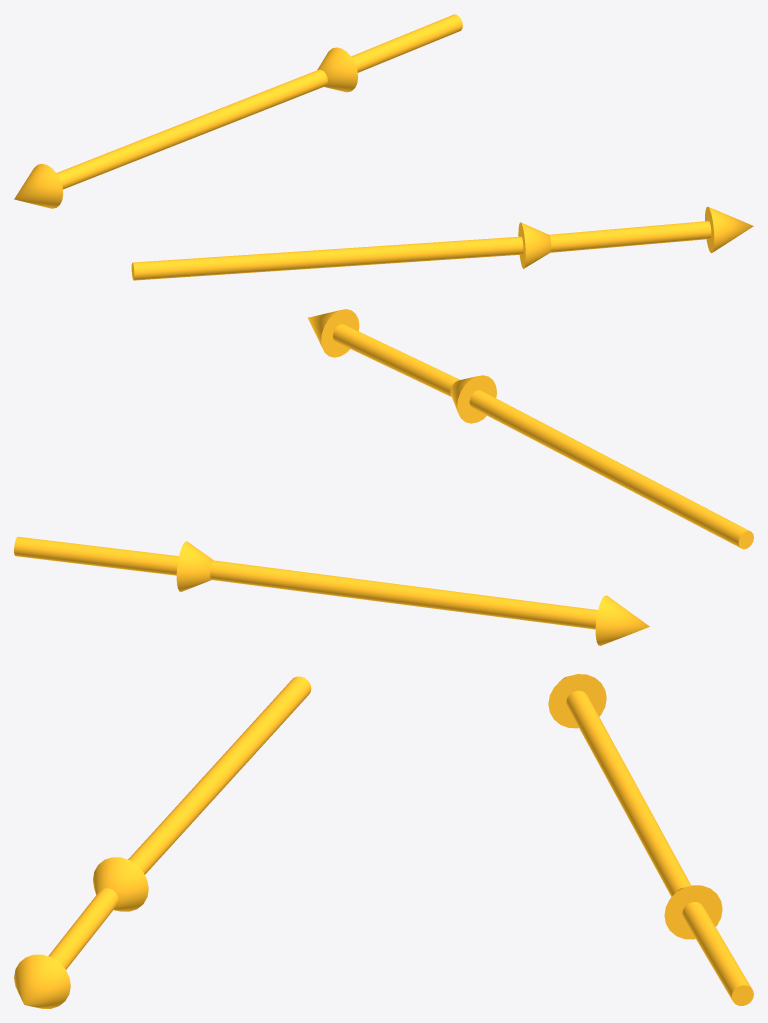
The model's file is floating_roof_tank_flow.glb.
The picture shows the model from 3 angles, top to bottom: view 1: azimuth 30°, elevation 25°; view 2: azimuth 150°, elevation 25°; view 3: azimuth 270°, elevation 25°; orthographic projection. The views are drawn at different scales.
Parts seen in each view (by area): view 1: outlet, inlet; view 2: inlet, outlet; view 3: outlet, inlet.
Boxes of the visible parts, bbox=[...] form: outlet: bbox=[131, 206, 753, 280]; inlet: bbox=[14, 14, 462, 208]; inlet: bbox=[14, 536, 649, 645]; outlet: bbox=[308, 309, 753, 549]; outlet: bbox=[14, 676, 311, 1008]; inlet: bbox=[548, 674, 753, 1005].
Bounding box in the file's own units: 2.02 × 0.156 × 1.92.
